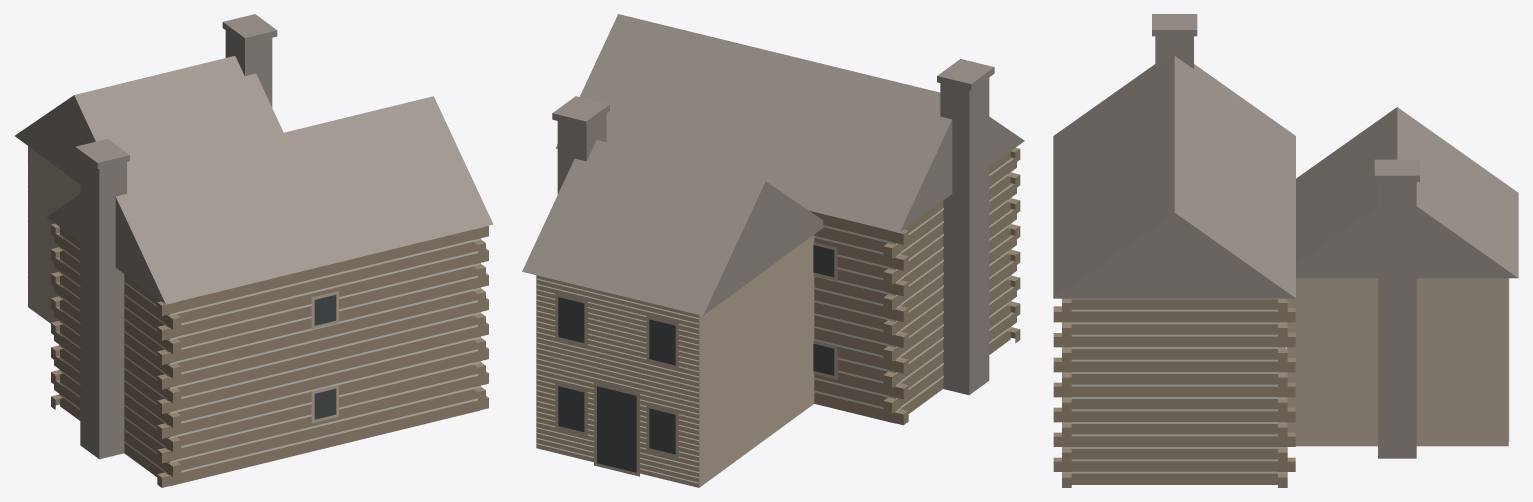
Rendered from miller_house__log_frame_1827.glb.
3 views of the same model, side by side, from view 1: azimuth 30°, elevation 25°; view 2: azimuth 150°, elevation 25°; view 3: azimuth 270°, elevation 25° (orthographic). The views are drawn at different scales.
Parts seen in each view (by area): view 1: miller_house__log_frame_1827; view 2: miller_house__log_frame_1827; view 3: miller_house__log_frame_1827.
Boxes of the visible parts, box(x1,y1,x2,y2) form: miller_house__log_frame_1827: box(15, 14, 493, 487); miller_house__log_frame_1827: box(522, 14, 1024, 487); miller_house__log_frame_1827: box(1053, 14, 1518, 487).
Bounding box in the file's own units: 10.07 × 8.33 × 11.5.
